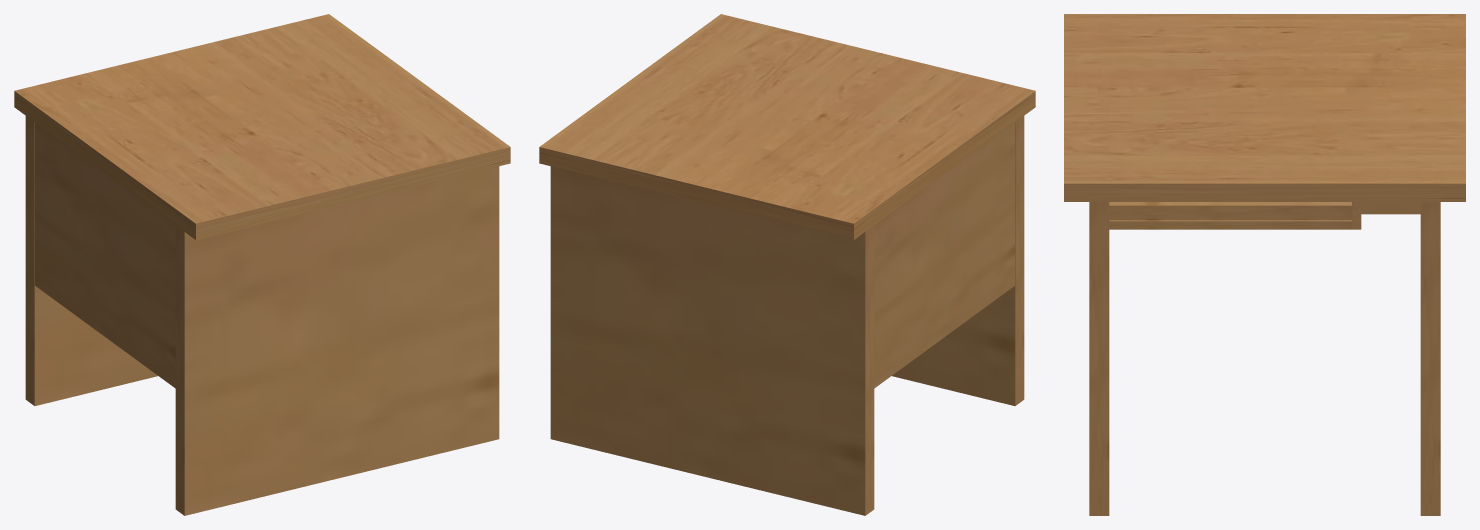
Rendered from stol_sm_m.fbx.
3 views of the same model, side by side, from view 1: azimuth 30°, elevation 25°; view 2: azimuth 150°, elevation 25°; view 3: azimuth 270°, elevation 25° (orthographic). The views are drawn at different scales.
Visible parts, largest first — view 1: stol_sm_m; view 2: stol_sm_m; view 3: stol_sm_m.
Part boxes in pixels (<box>): stol_sm_m: <box>14,14,510,515</box>; stol_sm_m: <box>539,14,1035,515</box>; stol_sm_m: <box>1064,14,1465,515</box>.
Size of the model in its own units: 0.5364 by 0.4895 by 0.5364.
